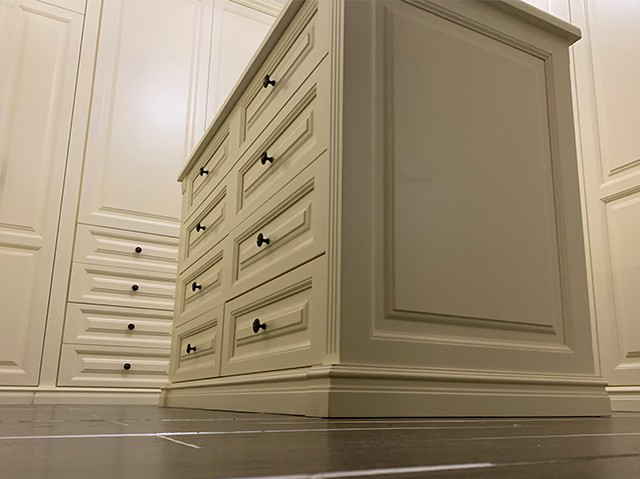cabinet: (159, 1, 613, 419), (1, 1, 245, 399)
